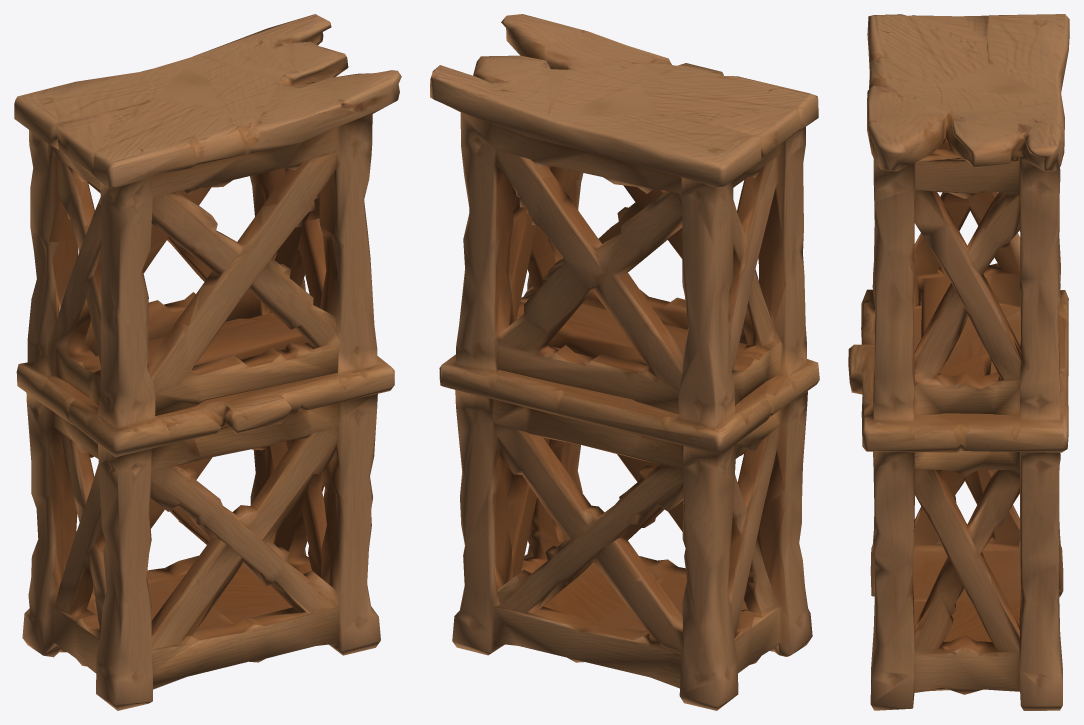
Rendered from mod-tallbox1.fbx.
The picture shows the model from 3 angles, left to right: view 1: azimuth 30°, elevation 25°; view 2: azimuth 150°, elevation 25°; view 3: azimuth 270°, elevation 25°; orthographic projection. The views are drawn at different scales.
Visible parts, largest first — view 1: texture_pbr_v128; view 2: texture_pbr_v128; view 3: texture_pbr_v128.
Boxes of the visible parts, x1,y1,x2,y2 form: texture_pbr_v128: (14,14,401,710); texture_pbr_v128: (430,14,819,710); texture_pbr_v128: (848,14,1069,710).
Bounding box in the file's own units: 57.84 × 102 × 35.43.
1 material, 1 textured.
